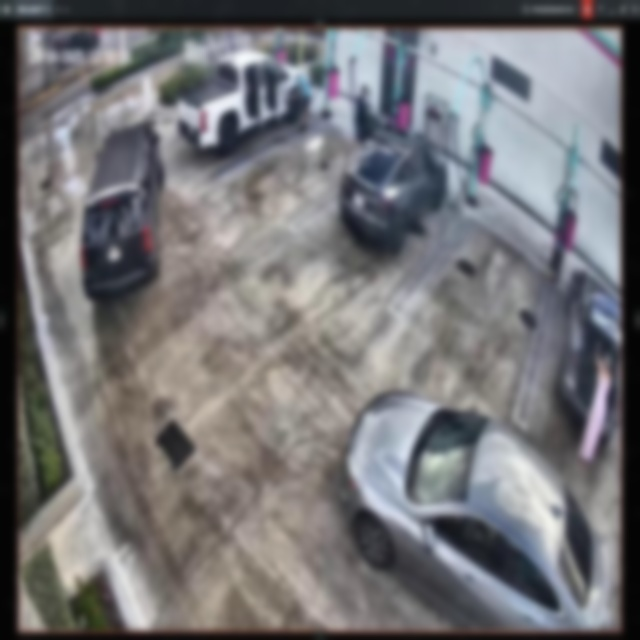Car: (340, 389, 612, 632), (340, 111, 447, 251), (79, 122, 164, 293), (178, 49, 303, 152)
